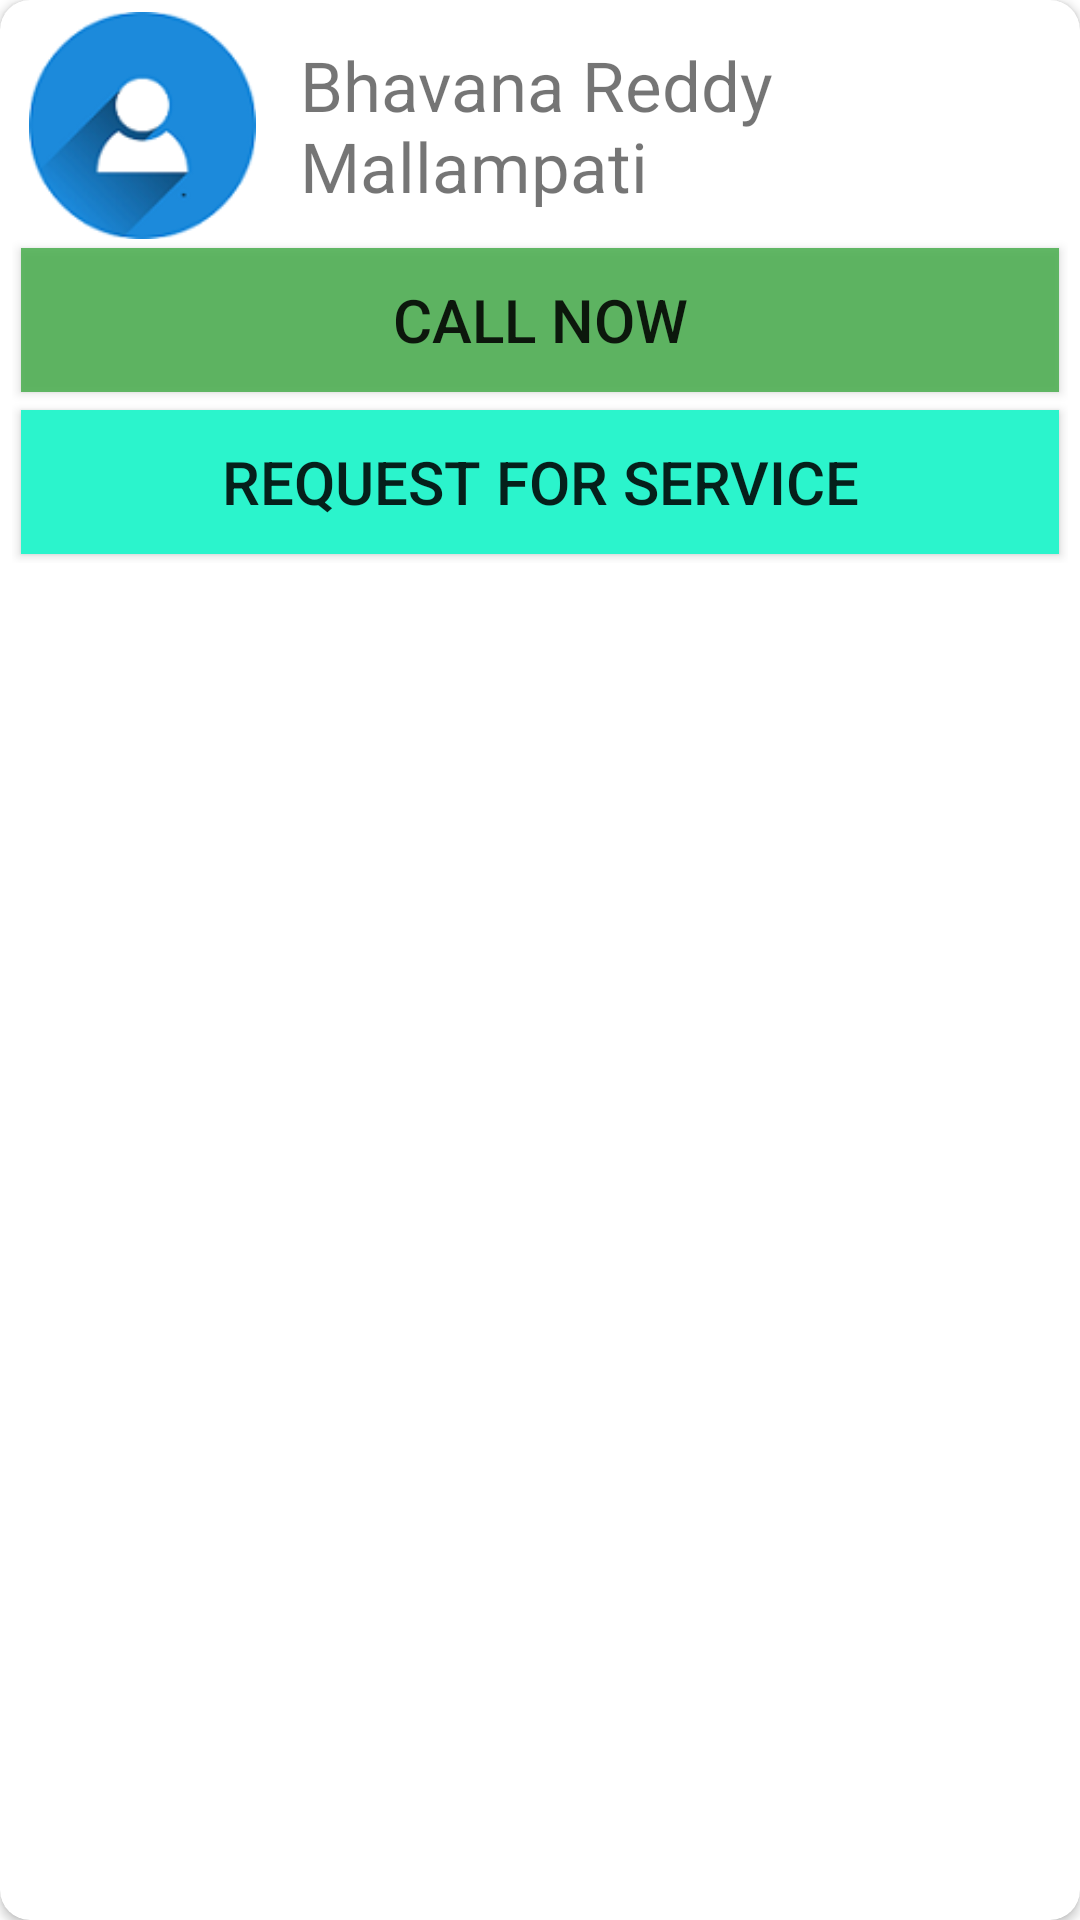

Named icons in this screenshot (1080w x 1920h) and their centers, (x=x, y=y):
loginperson: (x=142, y=125)
